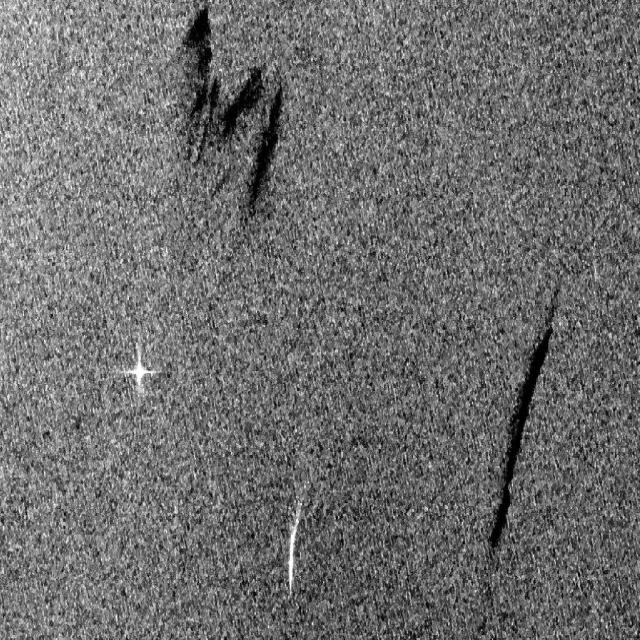oil-spill: (180, 7, 286, 218), (483, 314, 556, 564)
ship: (116, 344, 160, 404), (281, 500, 305, 598)
